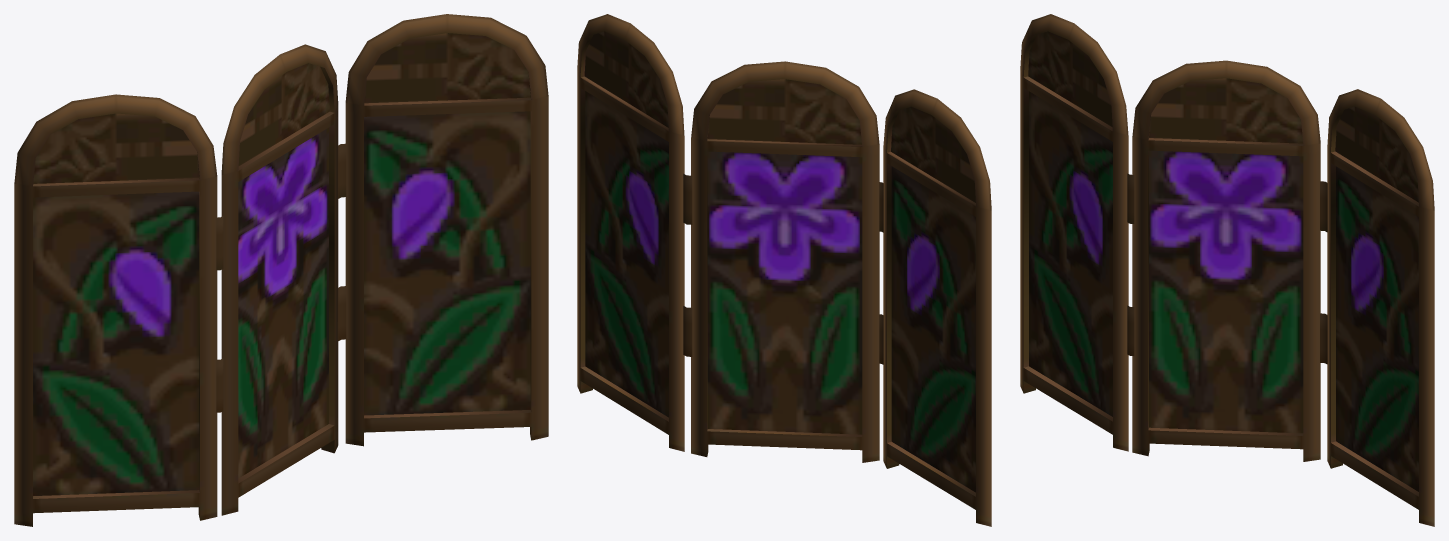
The model's file is rmk_flo_screen.dae.
3 views of the same model, side by side, from view 1: azimuth 30°, elevation 25°; view 2: azimuth 150°, elevation 25°; view 3: azimuth 330°, elevation 25° (orthographic). The views are drawn at different scales.
Parts seen in each view (by area): view 1: rmk_flo_screen; view 2: rmk_flo_screen; view 3: rmk_flo_screen.
Boxes of the visible parts, box(x1,y1,x2,y2) form: rmk_flo_screen: box(14, 14, 548, 526); rmk_flo_screen: box(577, 14, 991, 526); rmk_flo_screen: box(1020, 14, 1434, 526).
Size of the model in its own units: 56.47 by 46.89 by 8.96.
1 material, 1 textured.
